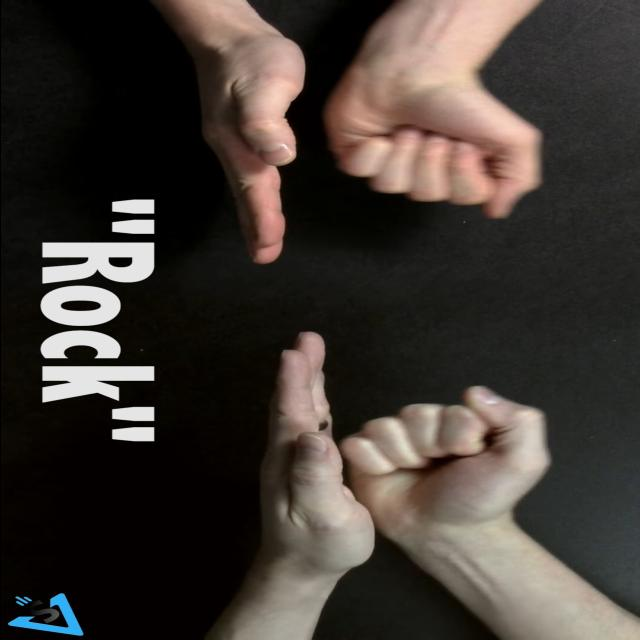Rock: (330, 64, 542, 219), (340, 386, 550, 540)
